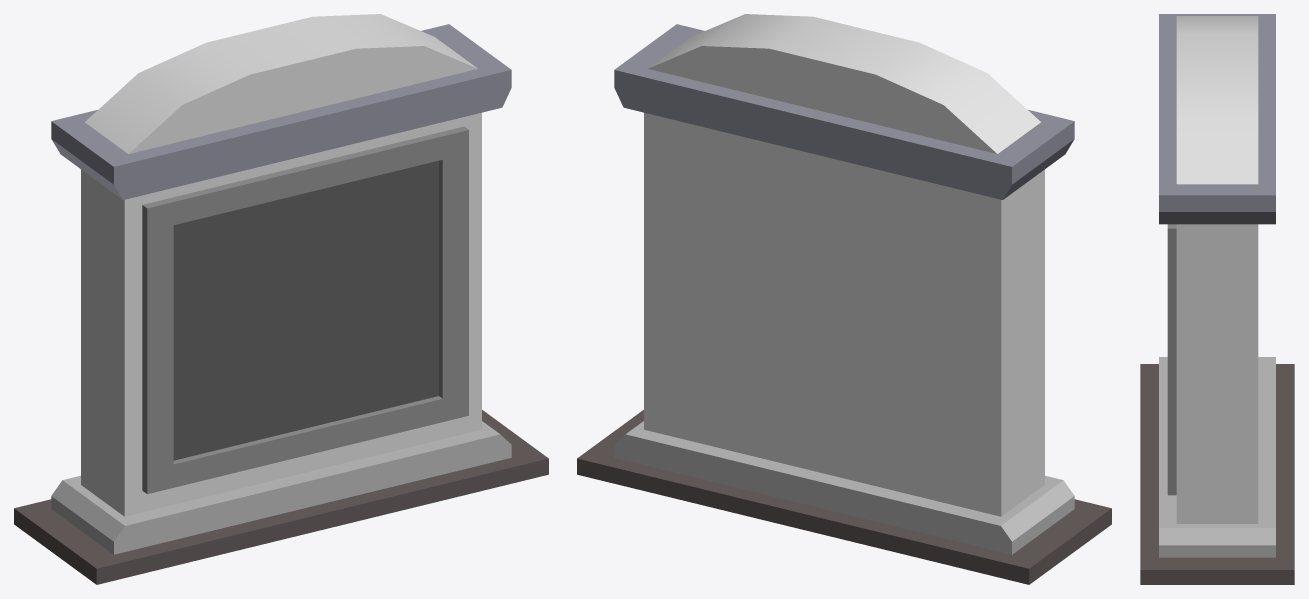
The model's file is HWN20_Grave_03.glb.
3 renders of one model, left to right at view 1: azimuth 30°, elevation 25°; view 2: azimuth 150°, elevation 25°; view 3: azimuth 270°, elevation 25°, orthographic. The views are drawn at different scales.
Visible parts, largest first — view 1: HWN20_Grave_03; view 2: HWN20_Grave_03; view 3: HWN20_Grave_03.
Part boxes in pixels (x1=…): HWN20_Grave_03: x1=14, y1=14, x2=548, y2=584; HWN20_Grave_03: x1=577, y1=14, x2=1111, y2=584; HWN20_Grave_03: x1=1140, y1=14, x2=1294, y2=584.
Size of what is drawn, in the model's own units: 1.46 by 1.4 by 0.4619.
Materials: 1 (1 with a texture image).
